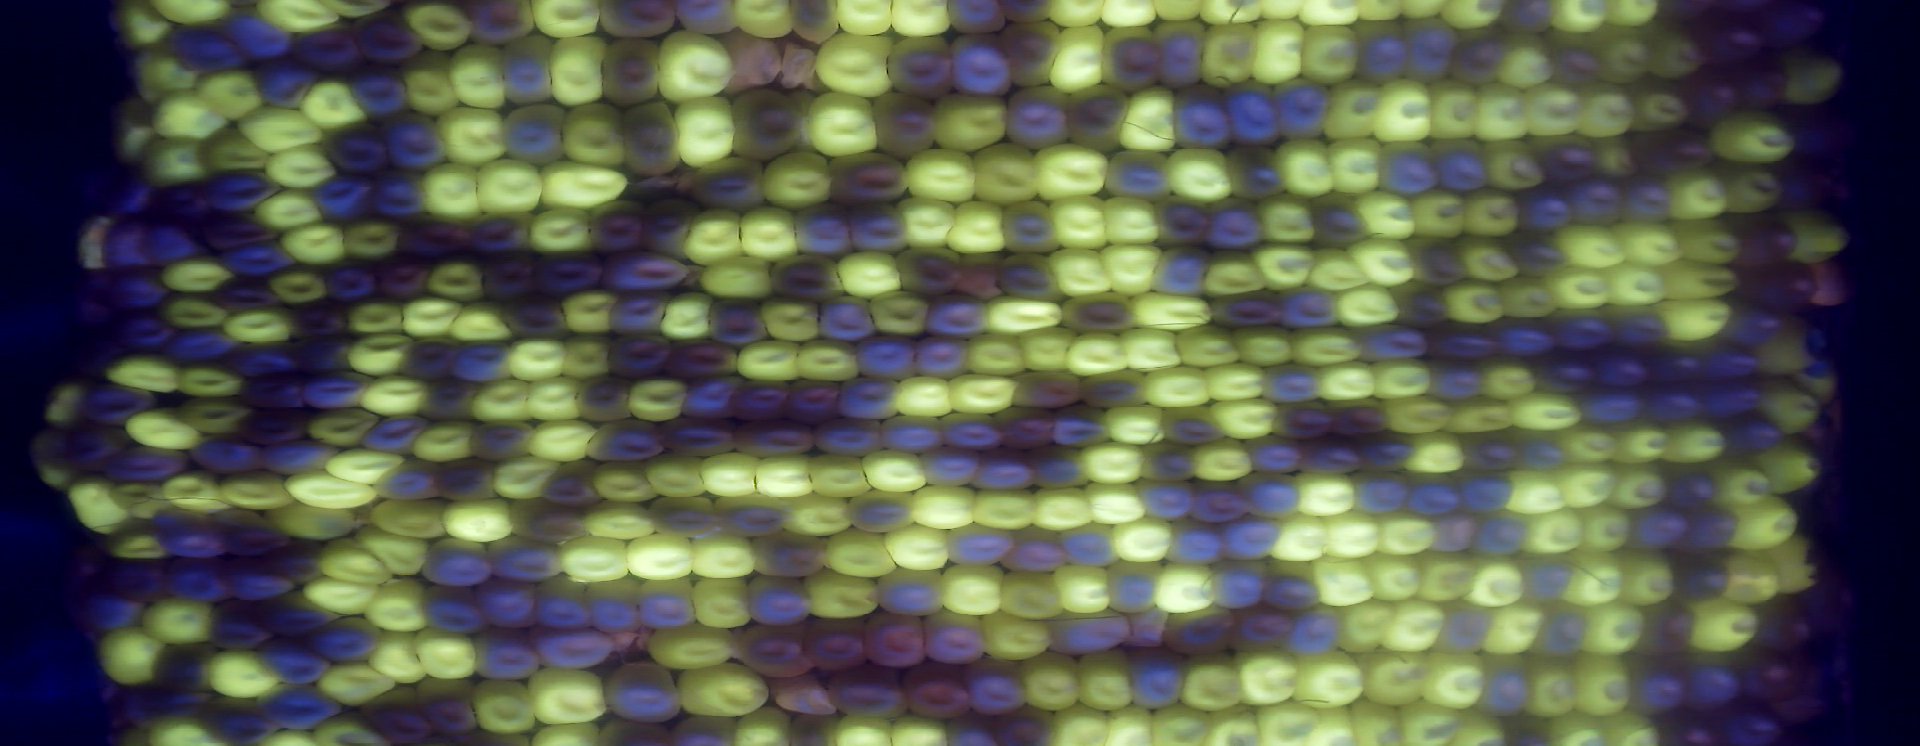fluorescent: (651, 26, 740, 108), (812, 29, 904, 107), (671, 658, 775, 722), (802, 87, 887, 163), (756, 145, 844, 216), (1287, 644, 1371, 718), (535, 153, 634, 216), (522, 661, 615, 728), (671, 91, 742, 176), (553, 99, 634, 174), (929, 88, 1014, 159), (966, 137, 1048, 209), (1709, 105, 1802, 169), (228, 100, 326, 160), (542, 29, 612, 111), (433, 99, 512, 171), (127, 39, 207, 110), (91, 621, 171, 691), (1269, 131, 1343, 205), (1114, 82, 1187, 158), (1747, 376, 1829, 442), (639, 620, 744, 671), (1029, 138, 1112, 203), (397, 49, 470, 122), (1685, 594, 1764, 661), (1356, 646, 1438, 710), (801, 563, 889, 624), (143, 85, 235, 142), (442, 37, 509, 115), (1713, 544, 1791, 611), (135, 134, 216, 198), (1195, 16, 1266, 89), (1752, 317, 1831, 383), (135, 594, 227, 650), (260, 496, 362, 546), (1161, 145, 1242, 208), (1176, 649, 1251, 717), (1419, 648, 1495, 715), (313, 533, 400, 592), (408, 624, 487, 687), (899, 145, 980, 207), (1518, 653, 1589, 724), (1242, 13, 1308, 89), (1725, 491, 1801, 557), (471, 156, 549, 220), (257, 138, 344, 196), (1591, 22, 1662, 92), (118, 404, 209, 458), (415, 159, 490, 225), (467, 673, 542, 737), (1776, 45, 1851, 110), (354, 521, 432, 583), (313, 657, 404, 710), (1556, 544, 1627, 612), (1752, 435, 1824, 502), (752, 288, 828, 352), (550, 532, 636, 588), (1229, 646, 1307, 708), (1048, 20, 1109, 98), (354, 575, 433, 635), (1551, 217, 1631, 277), (1780, 205, 1854, 269), (1703, 454, 1777, 519), (820, 524, 905, 581), (1478, 135, 1553, 198), (1569, 78, 1644, 141), (1713, 157, 1789, 219), (1600, 457, 1676, 519), (280, 465, 380, 513), (994, 563, 1071, 625), (1611, 213, 1689, 274), (201, 646, 283, 703), (1296, 18, 1363, 88), (1368, 73, 1439, 140), (1320, 135, 1391, 201), (189, 66, 272, 122), (1461, 548, 1533, 612), (1015, 648, 1089, 712), (1095, 236, 1169, 299), (834, 245, 909, 307), (1663, 167, 1738, 229), (1198, 243, 1275, 303), (1120, 288, 1217, 336), (1654, 294, 1740, 348), (364, 626, 436, 690), (1453, 225, 1526, 289), (1382, 593, 1455, 657), (1671, 213, 1751, 271), (369, 492, 456, 545), (978, 292, 1074, 339), (1657, 257, 1750, 306), (294, 73, 370, 134), (684, 527, 765, 583), (195, 122, 276, 179), (209, 464, 300, 514), (936, 559, 1007, 622), (1044, 192, 1116, 256), (1491, 29, 1562, 93), (398, 1, 480, 56), (939, 195, 1011, 257), (730, 202, 802, 265), (1520, 501, 1592, 563), (1359, 546, 1431, 609), (1438, 391, 1524, 442), (680, 203, 747, 269), (1321, 73, 1386, 142), (696, 252, 780, 305), (1073, 646, 1136, 715), (1420, 73, 1484, 143), (1482, 597, 1551, 660), (1572, 649, 1633, 722), (1578, 597, 1651, 658), (438, 494, 520, 548), (486, 451, 564, 507), (344, 330, 424, 385), (1262, 510, 1338, 567), (1764, 532, 1827, 601), (687, 572, 758, 633), (1518, 78, 1589, 140), (980, 609, 1057, 665), (1112, 322, 1189, 379), (1329, 278, 1411, 331), (622, 530, 700, 586), (1349, 232, 1423, 290), (1315, 506, 1390, 563), (1469, 78, 1534, 145), (893, 191, 961, 254), (1171, 320, 1247, 376), (1624, 76, 1693, 137), (1404, 186, 1474, 247), (864, 285, 936, 345), (1455, 183, 1526, 243), (1504, 386, 1584, 439), (966, 484, 1043, 539), (1247, 239, 1324, 294), (1251, 189, 1324, 247), (1351, 185, 1423, 244), (300, 403, 384, 453), (98, 348, 182, 398), (1300, 245, 1374, 303), (523, 205, 601, 258), (1284, 321, 1367, 372), (320, 443, 410, 490), (149, 254, 240, 300), (1097, 191, 1166, 252), (905, 481, 984, 534), (1551, 456, 1622, 514), (1409, 549, 1480, 608), (1365, 352, 1442, 405), (298, 571, 384, 619), (1044, 243, 1118, 299), (1656, 419, 1734, 472), (778, 491, 860, 541), (580, 494, 662, 544), (1288, 465, 1363, 521), (880, 521, 955, 576), (1151, 560, 1221, 619), (170, 388, 250, 440), (944, 366, 1021, 419), (1344, 693, 1422, 746), (1576, 499, 1642, 560), (1378, 391, 1460, 440), (107, 1, 178, 58), (640, 450, 711, 506), (733, 332, 804, 388), (1370, 506, 1441, 562), (1310, 552, 1381, 609), (276, 216, 351, 268), (1496, 465, 1572, 518), (587, 457, 666, 507), (1605, 416, 1678, 472), (1619, 548, 1680, 612), (1071, 437, 1149, 489), (247, 184, 324, 235), (469, 374, 540, 429), (962, 327, 1033, 382), (1472, 352, 1543, 407), (802, 448, 878, 500), (1013, 325, 1085, 379), (749, 451, 823, 503), (1227, 320, 1300, 372), (1389, 698, 1469, 746), (1060, 328, 1135, 380), (790, 334, 864, 386), (100, 477, 179, 526), (358, 371, 436, 420), (1138, 363, 1216, 412), (103, 512, 174, 566), (1096, 398, 1167, 452), (422, 258, 493, 312), (1646, 22, 1709, 82), (1251, 696, 1327, 746), (523, 415, 602, 463), (624, 371, 692, 428), (523, 1, 609, 45), (168, 360, 253, 404), (446, 296, 519, 348), (109, 99, 164, 168), (1041, 699, 1122, 746), (158, 464, 233, 514), (1109, 514, 1180, 567), (24, 428, 77, 499), (503, 332, 574, 385), (1049, 560, 1116, 616), (62, 477, 129, 533), (1200, 358, 1272, 409), (697, 447, 764, 502), (557, 285, 624, 341), (1403, 429, 1477, 479), (655, 285, 718, 344), (407, 418, 481, 467), (1553, 423, 1627, 472), (1027, 483, 1095, 537), (1084, 477, 1152, 529), (1442, 274, 1511, 327), (1142, 699, 1220, 746), (890, 371, 960, 423), (1189, 434, 1259, 485), (857, 446, 932, 494), (392, 295, 467, 343), (1491, 273, 1562, 323), (250, 1, 347, 38), (263, 261, 331, 314), (1209, 394, 1281, 443), (1311, 356, 1382, 405), (1333, 599, 1401, 650), (1599, 263, 1669, 312), (154, 292, 234, 334), (1548, 265, 1616, 314), (522, 375, 589, 424), (553, 331, 616, 383), (340, 213, 403, 266), (37, 374, 92, 432), (309, 710, 398, 746), (1298, 703, 1371, 746), (224, 304, 295, 348), (345, 296, 414, 342), (1199, 702, 1269, 746), (1589, 134, 1646, 185), (726, 1, 800, 40), (1095, 702, 1158, 746), (1543, 1, 1613, 40), (829, 1, 900, 39), (1449, 706, 1515, 746), (887, 1, 954, 40), (141, 1, 233, 28), (1801, 356, 1845, 410), (1602, 1, 1660, 32)
nonfluorescent: (726, 82, 806, 167), (1761, 151, 1862, 216), (1058, 78, 1138, 159), (1787, 99, 1869, 176), (600, 657, 687, 729), (818, 660, 916, 724), (615, 94, 684, 181), (107, 679, 214, 734), (256, 676, 353, 737), (869, 86, 940, 169), (1735, 256, 1824, 322), (898, 654, 980, 725), (820, 148, 915, 209), (1719, 203, 1800, 274), (148, 503, 238, 566), (1163, 80, 1238, 154), (497, 98, 573, 171), (732, 619, 823, 680), (1618, 653, 1698, 722), (1002, 81, 1075, 156), (372, 107, 449, 178), (249, 592, 350, 646), (164, 17, 250, 81), (578, 414, 675, 470), (996, 15, 1067, 91), (882, 34, 958, 105), (595, 33, 666, 109), (1255, 554, 1333, 622), (1630, 124, 1720, 183), (1687, 7, 1771, 71), (61, 577, 153, 635), (1041, 608, 1139, 661), (688, 151, 769, 216), (84, 157, 167, 220), (1678, 59, 1749, 132), (525, 624, 622, 677), (217, 2, 296, 67), (414, 673, 493, 737), (947, 27, 1016, 100), (1349, 15, 1418, 89), (1476, 647, 1543, 723), (287, 17, 371, 77), (468, 624, 547, 687), (1221, 77, 1289, 151), (747, 526, 833, 584), (1398, 11, 1464, 87), (504, 494, 598, 548), (1123, 639, 1188, 717), (858, 608, 936, 673), (304, 612, 391, 670), (202, 503, 293, 559), (1731, 646, 1810, 709), (482, 530, 571, 587), (1751, 1, 1839, 58), (1093, 23, 1164, 93), (742, 570, 818, 635), (1520, 597, 1596, 661), (497, 28, 557, 110), (650, 412, 746, 463), (193, 687, 277, 746), (1104, 142, 1177, 209), (200, 165, 288, 220), (633, 573, 707, 639), (318, 116, 393, 181), (1370, 134, 1445, 198), (1052, 288, 1144, 341), (917, 608, 996, 669), (731, 414, 827, 464), (993, 522, 1076, 579), (156, 555, 242, 610), (1442, 21, 1512, 89), (1427, 597, 1498, 664), (1678, 649, 1749, 717), (348, 9, 427, 69), (415, 533, 500, 589), (1213, 511, 1294, 570), (594, 246, 688, 296), (414, 579, 492, 639), (1302, 187, 1371, 255), (1633, 594, 1700, 665), (1198, 194, 1272, 256), (828, 369, 909, 426), (1428, 132, 1494, 202), (1753, 590, 1820, 660), (54, 416, 137, 472), (1164, 601, 1240, 661), (764, 249, 849, 303), (495, 292, 579, 345), (943, 518, 1024, 575), (1269, 73, 1335, 142), (149, 636, 227, 695), (362, 681, 432, 746), (92, 555, 178, 608), (98, 442, 192, 490), (659, 331, 742, 385), (1665, 502, 1749, 556), (1234, 465, 1309, 526), (800, 617, 876, 676), (578, 575, 647, 639), (1731, 47, 1795, 116), (1531, 129, 1600, 192), (637, 492, 725, 543), (185, 432, 267, 486), (1152, 17, 1212, 91), (842, 195, 916, 255), (704, 292, 778, 352), (1156, 401, 1236, 456), (530, 572, 598, 637), (475, 573, 542, 638), (1198, 555, 1273, 612), (1144, 241, 1213, 304), (1668, 548, 1738, 610), (250, 635, 331, 688), (1071, 364, 1156, 415), (1618, 502, 1695, 559), (193, 206, 284, 254), (73, 380, 164, 428), (242, 535, 331, 584), (1527, 345, 1605, 401), (1224, 600, 1299, 658), (634, 194, 699, 260), (961, 653, 1029, 717), (791, 198, 860, 261), (714, 489, 797, 540), (1479, 314, 1562, 365), (135, 212, 211, 268), (219, 334, 309, 382), (307, 171, 378, 232), (1402, 232, 1473, 292), (989, 247, 1067, 303), (369, 454, 446, 510), (1420, 316, 1505, 366), (1098, 557, 1172, 615), (1509, 548, 1582, 605), (872, 566, 954, 617), (1542, 24, 1607, 89), (1227, 142, 1291, 208), (964, 443, 1043, 496), (1540, 304, 1620, 356), (1562, 171, 1632, 232), (1447, 464, 1523, 519), (1007, 367, 1091, 416), (1129, 473, 1202, 529), (534, 458, 607, 514), (1713, 409, 1787, 465), (1284, 601, 1352, 663), (931, 408, 1013, 458), (763, 675, 845, 725), (58, 266, 116, 336), (571, 369, 640, 428), (394, 214, 480, 262), (530, 246, 606, 300), (844, 486, 920, 540), (249, 54, 320, 111), (808, 414, 891, 463), (1349, 318, 1433, 367), (891, 244, 964, 300), (1452, 425, 1524, 481), (851, 330, 924, 385), (582, 194, 648, 255), (1600, 298, 1674, 353), (54, 325, 122, 383), (1160, 516, 1234, 570), (1500, 225, 1575, 279), (1129, 437, 1205, 490), (1021, 440, 1097, 492), (287, 330, 360, 383), (989, 402, 1063, 456), (203, 601, 277, 655), (343, 62, 411, 120), (997, 198, 1065, 256), (1049, 398, 1118, 456), (253, 432, 343, 477), (157, 322, 244, 367), (601, 330, 676, 382), (778, 371, 847, 428), (1184, 474, 1254, 530), (1386, 279, 1456, 336), (923, 285, 994, 341), (1693, 376, 1769, 428), (427, 453, 504, 503), (673, 371, 747, 424), (1273, 279, 1348, 331), (1464, 508, 1536, 562), (296, 366, 378, 413), (236, 371, 318, 418), (813, 292, 882, 347), (469, 205, 542, 256), (602, 285, 673, 338), (418, 375, 489, 428), (469, 413, 540, 465), (1152, 192, 1217, 250), (1720, 295, 1785, 353), (444, 334, 520, 383), (360, 412, 436, 461), (1351, 469, 1423, 521), (909, 328, 976, 383), (1398, 467, 1467, 521), (102, 265, 175, 315), (214, 236, 300, 279), (369, 162, 431, 220), (1656, 457, 1718, 516), (394, 333, 469, 382), (1212, 287, 1291, 333), (1573, 386, 1652, 432), (467, 1, 542, 49), (216, 559, 298, 603), (589, 1, 678, 42), (724, 375, 797, 424), (1255, 356, 1329, 405), (204, 274, 285, 318), (1618, 173, 1678, 232), (1799, 256, 1858, 316), (951, 246, 1009, 307), (1513, 181, 1577, 236), (1510, 423, 1573, 478), (1635, 385, 1714, 429), (1059, 516, 1124, 570), (480, 249, 542, 304), (913, 443, 989, 489), (1267, 399, 1341, 446), (1420, 358, 1490, 407), (1349, 428, 1416, 479), (1640, 342, 1711, 390), (103, 306, 178, 352), (1584, 347, 1657, 393), (1294, 434, 1367, 480), (375, 250, 438, 303), (1327, 396, 1397, 443), (782, 1, 849, 51), (1242, 430, 1308, 480), (1695, 334, 1761, 385), (97, 214, 157, 269), (149, 175, 218, 223), (880, 412, 953, 457), (238, 405, 313, 448), (665, 1, 749, 39), (318, 258, 384, 305), (1723, 698, 1787, 746), (1117, 606, 1180, 653), (1420, 510, 1485, 555), (26, 416, 80, 470), (992, 701, 1056, 746), (937, 1, 1010, 40), (284, 299, 351, 341), (1494, 1, 1570, 37), (1656, 710, 1730, 746)
